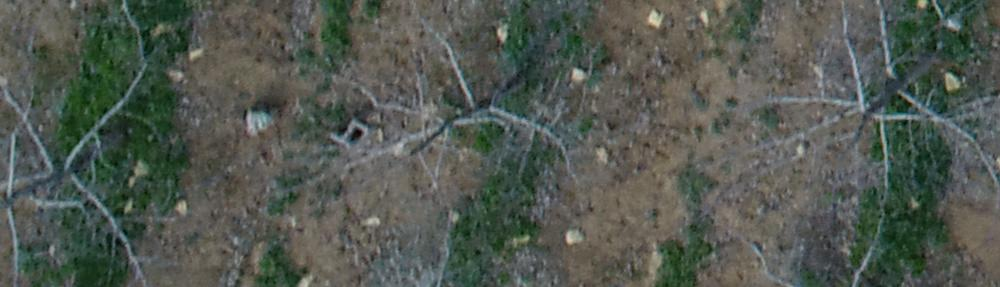apple: (728, 10, 990, 269), (304, 10, 596, 197), (10, 46, 203, 277)
